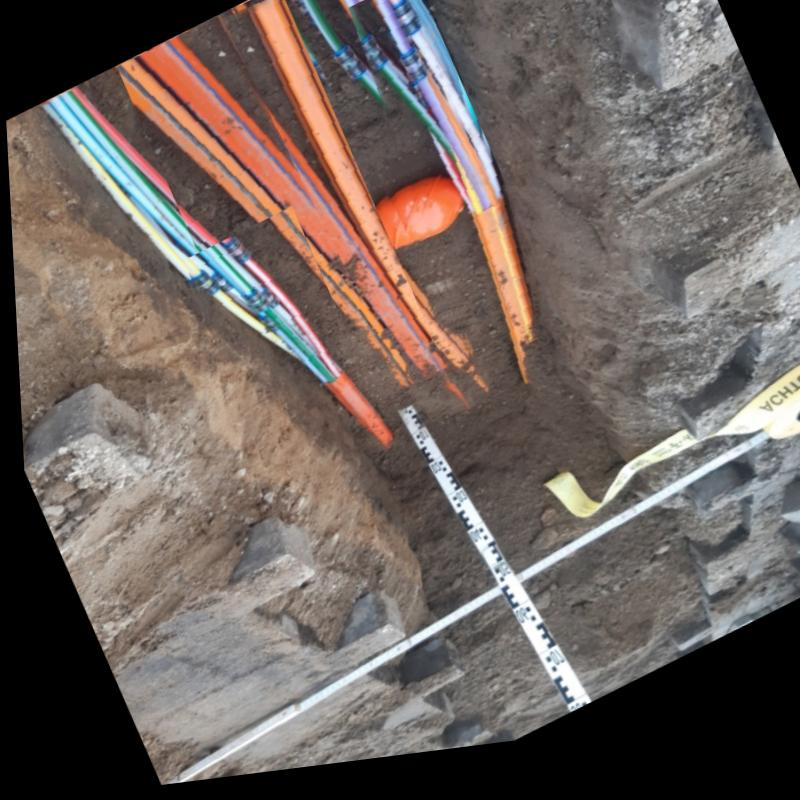Kugelmarker: (379, 190, 448, 251)
Orang-Speednetrohrchen: (163, 31, 440, 385), (231, 7, 466, 377), (353, 0, 529, 381), (116, 61, 365, 325), (186, 244, 385, 451)
